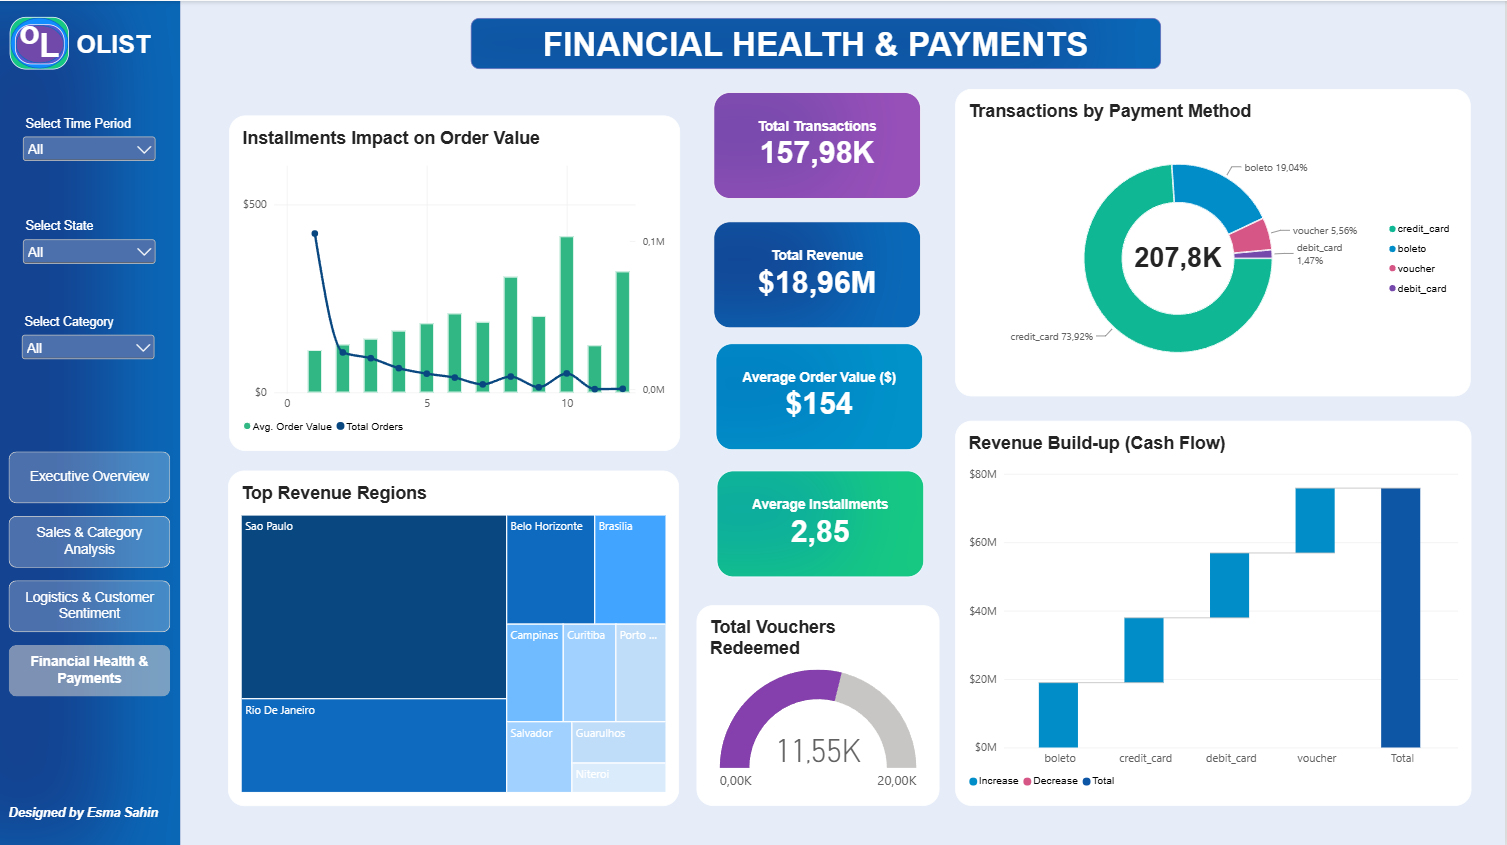

This screenshot's page, from the dashboard's own definition file:
{"tool":"powerbi","page":{"name":"Financial Health & Payments","canvas":[1920,1080],"ordinal":3},"visuals":[{"type":"shape","box":[0,0,232.2,1080.1],"z":0},{"type":"shape","box":[15.2,20.8,75.8,67],"z":0,"group":"g1"},{"type":"slicer","fields":{"Values":["06_fact_order_items.order_purchase_date.Variation.Jerarquía de fechas.Año","06_fact_order_items.order_purchase_date.Variation.Jerarquía de fechas.Mes"]},"box":[28.2,146.9,178.8,74.2],"z":0,"group":"g2"},{"type":"shape","box":[22,29.7,63.5,50.8],"z":1000,"group":"g1"},{"type":"lineStackedColumnComboChart","title":"Installments Impact on Order Value","fields":{"Category":["10_fact_payments.payment_installments"],"Y":["Avg(10_fact_payments.payment_value)"],"Y2":["CountNonNull(10_fact_payments.order_id)"]},"box":[294.2,146.2,575,426.9],"z":1000},{"type":"slicer","fields":{"Values":["08_dim_customers.customer_state"]},"box":[28.2,278.1,178.8,69.7],"z":1000,"group":"g2"},{"type":"textbox","box":[27.5,16.3,72.5,81.9],"z":2000,"group":"g1"},{"type":"slicer","fields":{"Values":["07_dim_products.product_category_name_english"]},"box":[26.6,400,178.8,81.8],"z":2000,"group":"g2"},{"type":"cardVisual","fields":{"Data":["Avg(10_fact_payments.payment_value)"]},"box":[913.5,436.5,264,136],"z":2000},{"type":"textbox","box":[52.9,32.5,39.5,52.3],"z":3000,"group":"g1"},{"type":"textbox","box":[100,36.7,96.2,39.2],"z":3000,"group":"g2"},{"type":"cardVisual","fields":{"Data":["Sum(06_fact_order_items.price)"]},"box":[911.5,280.8,264,136],"z":3000},{"type":"group","id":"g1","title":"Group 1","box":[15.2,16.3,84.9,82.6],"z":4000,"group":"g2"},{"type":"donutChart","title":"Transactions by Payment Method","fields":{"Category":["10_fact_payments.payment_type"],"Y":["CountNonNull(10_fact_payments.order_id)"]},"box":[1219.8,112.6,656.8,391.7],"z":4000},{"type":"pageNavigator","box":[14.3,573.9,206.1,313.6],"z":5000,"group":"g2"},{"type":"treemap","title":"Top Revenue Regions","fields":{"Group":["08_dim_customers.customer_city"],"Values":["Sum(06_fact_order_items.price)"]},"box":[293.2,598.2,575,426.9],"z":5000},{"type":"waterfallChart","title":"Revenue Build-up (Cash Flow)","fields":{"Category":["10_fact_payments.payment_type"],"Y":["Sum(06_fact_order_items.price)"]},"box":[1219.2,534.6,657.7,490.4],"z":6000},{"type":"textbox","box":[14.1,1025,192.2,28.1],"z":6000,"group":"g2"},{"type":"gauge","title":"Total Vouchers Redeemed","fields":{"Y":["CountNonNull(10_fact_payments.payment_value)"]},"box":[890.4,769.2,309.6,255.8],"z":7000},{"type":"group","id":"g2","title":"Group 2","box":[14.1,16.3,206.3,1036.8],"z":8000},{"type":"textbox","box":[601.9,21.2,878.8,65.4],"z":9000},{"type":"cardVisual","fields":{"Data":["CountNonNull(06_fact_order_items.order_id)"]},"box":[911.7,116.7,264,136],"z":10000},{"type":"cardVisual","fields":{"Data":["Avg(10_fact_payments.payment_installments)"]},"box":[915.3,598,264,136],"z":11000}]}

Visuals, with their boxes in screenshot pixels (x1, y1, x2, y2), scaled from the page's 1920x1080 canvas onto the 1507x845 screenshot:
shape: {"x1": 0, "y1": 0, "x2": 182, "y2": 844}
shape: {"x1": 12, "y1": 16, "x2": 71, "y2": 69}
slicer - 06_fact_order_items.order_purchase_date.Variation.Jerarquía de fechas.Año x 06_fact_order_items.order_purchase_date.Variation.Jerarquía de fechas.Mes: {"x1": 22, "y1": 115, "x2": 162, "y2": 173}
shape: {"x1": 17, "y1": 23, "x2": 67, "y2": 63}
"Installments Impact on Order Value" lineStackedColumnComboChart: {"x1": 231, "y1": 114, "x2": 682, "y2": 448}
slicer - 08_dim_customers.customer_state: {"x1": 22, "y1": 218, "x2": 162, "y2": 272}
textbox: {"x1": 22, "y1": 13, "x2": 78, "y2": 77}
slicer - 07_dim_products.product_category_name_english: {"x1": 21, "y1": 313, "x2": 161, "y2": 377}
cardVisual - Avg(10_fact_payments.payment_value): {"x1": 717, "y1": 342, "x2": 924, "y2": 448}
textbox: {"x1": 42, "y1": 25, "x2": 73, "y2": 66}
textbox: {"x1": 78, "y1": 29, "x2": 154, "y2": 59}
cardVisual - Sum(06_fact_order_items.price): {"x1": 715, "y1": 220, "x2": 923, "y2": 326}
"Group 1" group: {"x1": 12, "y1": 13, "x2": 79, "y2": 77}
"Transactions by Payment Method" donutChart: {"x1": 957, "y1": 88, "x2": 1473, "y2": 395}
pageNavigator: {"x1": 11, "y1": 449, "x2": 173, "y2": 694}
"Top Revenue Regions" treemap: {"x1": 230, "y1": 468, "x2": 681, "y2": 802}
"Revenue Build-up (Cash Flow)" waterfallChart: {"x1": 957, "y1": 418, "x2": 1473, "y2": 802}
textbox: {"x1": 11, "y1": 802, "x2": 162, "y2": 824}
"Total Vouchers Redeemed" gauge: {"x1": 699, "y1": 602, "x2": 942, "y2": 802}
"Group 2" group: {"x1": 11, "y1": 13, "x2": 173, "y2": 824}
textbox: {"x1": 472, "y1": 17, "x2": 1162, "y2": 68}
cardVisual - CountNonNull(06_fact_order_items.order_id): {"x1": 716, "y1": 91, "x2": 923, "y2": 198}
cardVisual - Avg(10_fact_payments.payment_installments): {"x1": 718, "y1": 468, "x2": 926, "y2": 574}
